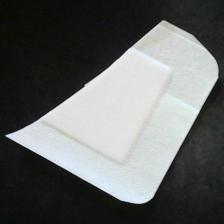Cut: (4, 16, 223, 208)
